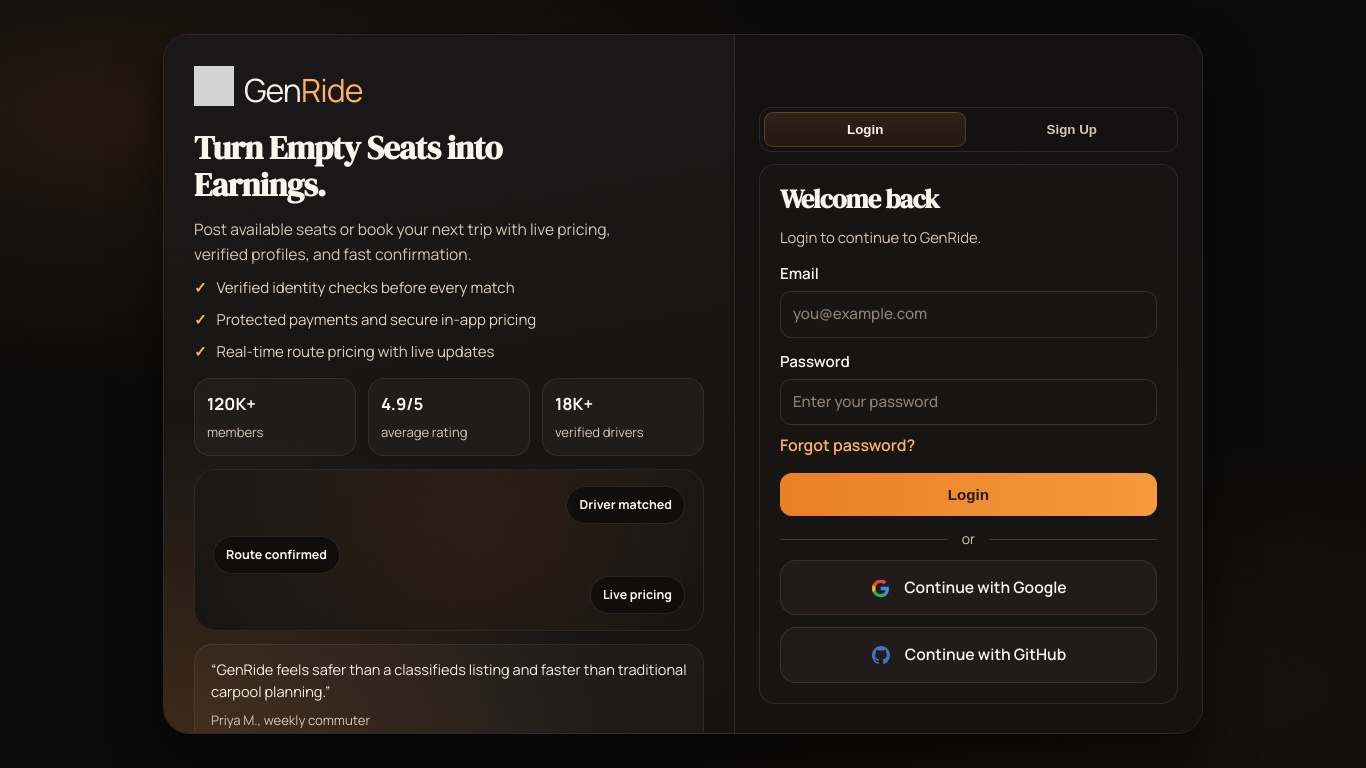
Test: RideX auth page › shows login validation errors when submitted empty
Click the button "Login": (969, 495) [780,473,1157,516]
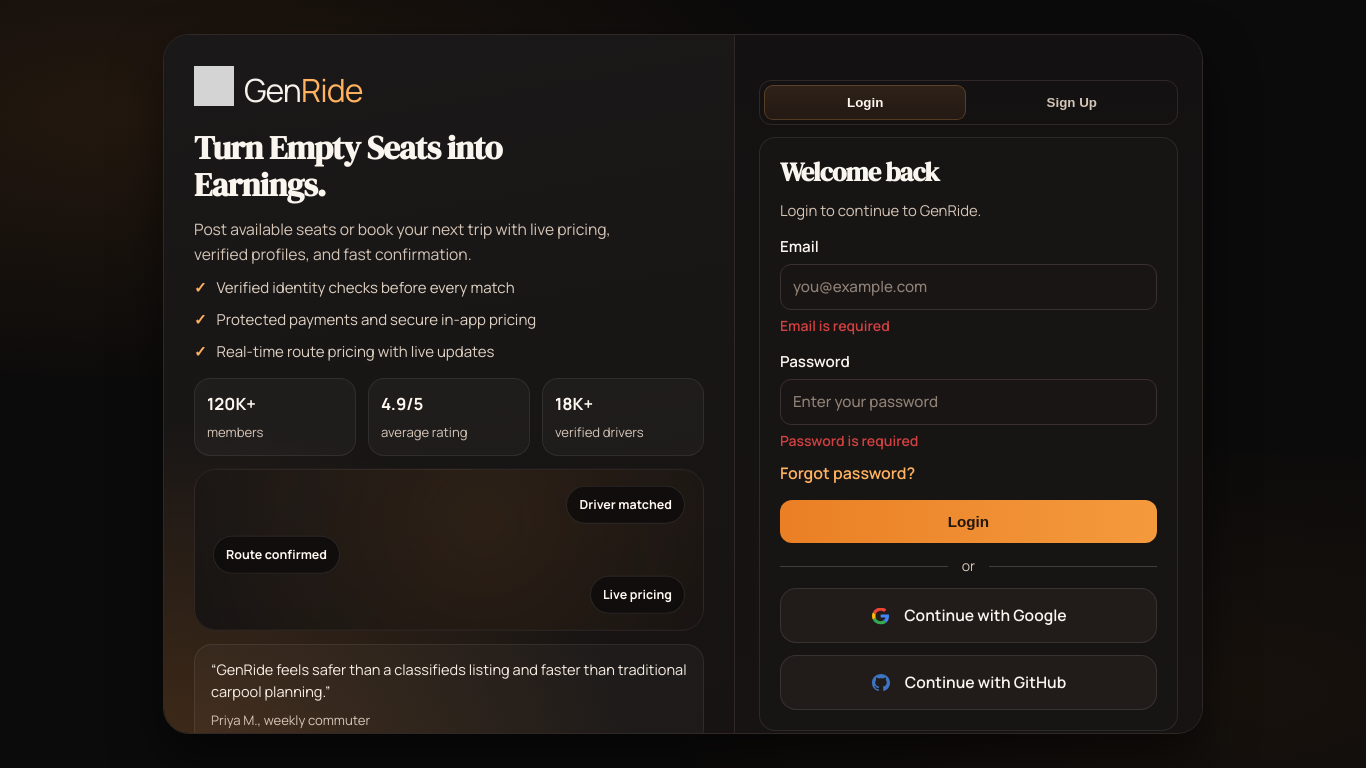
Expected: the text "Email Email is required" is shown, [780,234,1157,338]
Expected: the text "Password Password is required" is shown, [780,350,1157,453]
